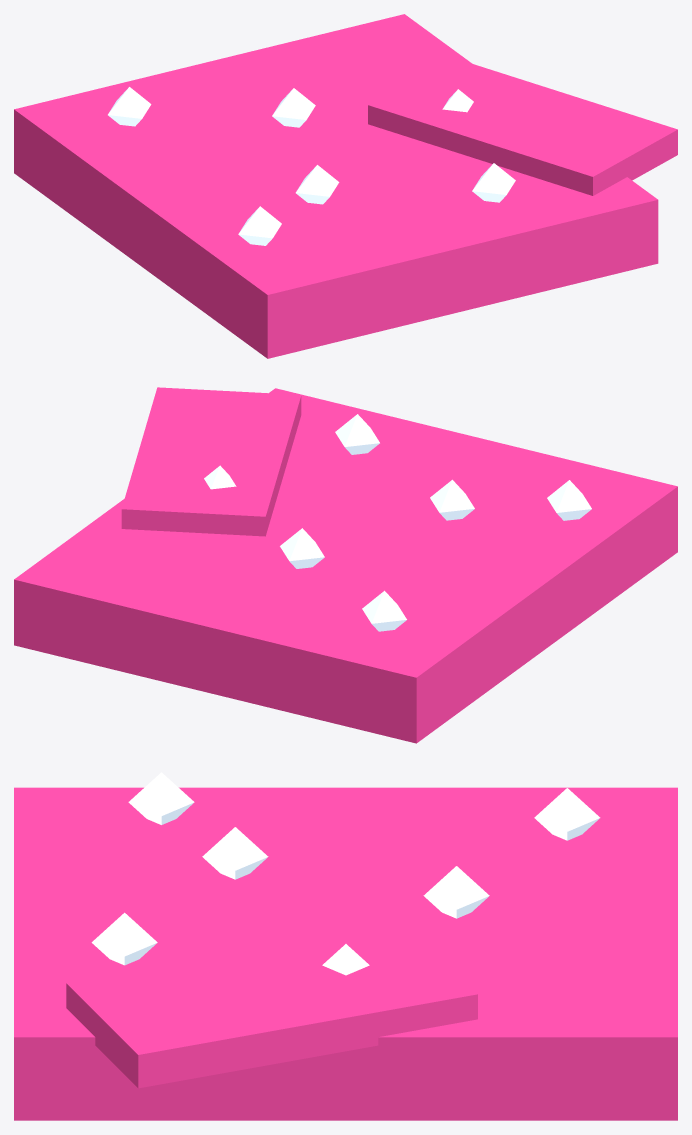
Rendered from rink_diamond_leotard.glb.
The picture shows the model from 3 angles, top to bottom: view 1: azimuth 30°, elevation 25°; view 2: azimuth 150°, elevation 25°; view 3: azimuth 270°, elevation 25°; orthographic projection. The views are drawn at different scales.
Parts seen in each view (by area): view 1: cloth_leotard_pink, sleeve_leotard_pink, diamond_1_leotard_diamond, diamond_4_leotard_diamond, diamond_5_leotard_diamond, diamond_3_leotard_diamond, diamond_0_leotard_diamond; view 2: cloth_leotard_pink, sleeve_leotard_pink, diamond_0_leotard_diamond, diamond_4_leotard_diamond, diamond_5_leotard_diamond, diamond_3_leotard_diamond, diamond_1_leotard_diamond; view 3: cloth_leotard_pink, sleeve_leotard_pink, diamond_4_leotard_diamond, diamond_0_leotard_diamond, diamond_3_leotard_diamond, diamond_1_leotard_diamond, diamond_5_leotard_diamond, diamond_2_leotard_diamond.
Part boxes in pixels (x1=…): cloth_leotard_pink: x1=14, y1=14, x2=658, y2=358; sleeve_leotard_pink: x1=368, y1=57, x2=677, y2=195; diamond_1_leotard_diamond: x1=272, y1=88, x2=315, y2=127; diamond_4_leotard_diamond: x1=472, y1=163, x2=515, y2=202; diamond_5_leotard_diamond: x1=238, y1=206, x2=281, y2=245; diamond_3_leotard_diamond: x1=295, y1=165, x2=339, y2=204; diamond_0_leotard_diamond: x1=108, y1=87, x2=151, y2=126; cloth_leotard_pink: x1=14, y1=388, x2=677, y2=743; sleeve_leotard_pink: x1=121, y1=387, x2=301, y2=536; diamond_0_leotard_diamond: x1=362, y1=590, x2=406, y2=631; diamond_4_leotard_diamond: x1=335, y1=414, x2=379, y2=454; diamond_5_leotard_diamond: x1=547, y1=480, x2=591, y2=520; diamond_3_leotard_diamond: x1=430, y1=479, x2=474, y2=520; diamond_1_leotard_diamond: x1=280, y1=528, x2=324, y2=568; cloth_leotard_pink: x1=14, y1=787, x2=677, y2=1120; sleeve_leotard_pink: x1=66, y1=922, x2=477, y2=1088; diamond_4_leotard_diamond: x1=91, y1=912, x2=157, y2=965; diamond_0_leotard_diamond: x1=534, y1=788, x2=600, y2=840; diamond_3_leotard_diamond: x1=202, y1=827, x2=268, y2=879; diamond_1_leotard_diamond: x1=423, y1=866, x2=489, y2=918; diamond_5_leotard_diamond: x1=128, y1=772, x2=194, y2=824; diamond_2_leotard_diamond: x1=322, y1=944, x2=369, y2=975.
Bounding box in the file's own units: 0.375 × 0.078 × 0.36.
